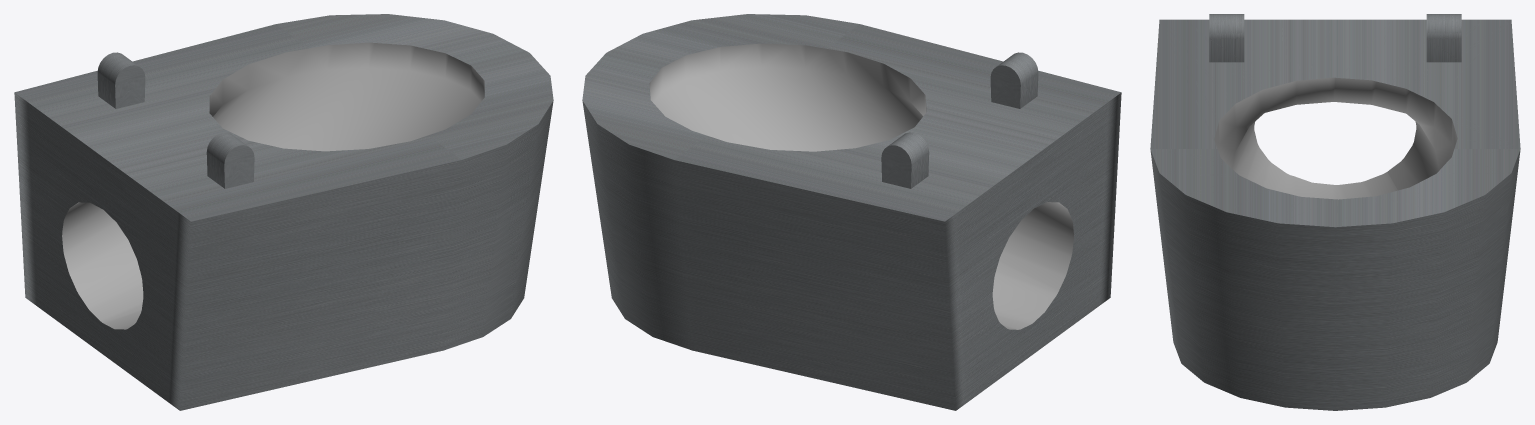
File: roomToilet.fbx
The picture shows the model from 3 angles, left to right: view 1: azimuth 30°, elevation 25°; view 2: azimuth 150°, elevation 25°; view 3: azimuth 270°, elevation 25°; orthographic projection.
Visible parts, largest first — view 1: polySurface10; view 2: polySurface10; view 3: polySurface10.
Part boxes in pixels (bbox=[...]): polySurface10: bbox=[14, 14, 553, 410]; polySurface10: bbox=[582, 14, 1121, 410]; polySurface10: bbox=[1150, 14, 1520, 410].
Size of the model in its own units: 67.78 by 35.99 by 51.07.
2 materials, 1 textured.
